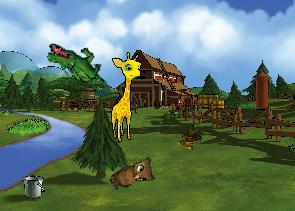crocodile: (44, 42, 107, 84)
giraffe: (111, 52, 142, 142)
owl: (107, 152, 161, 201)
